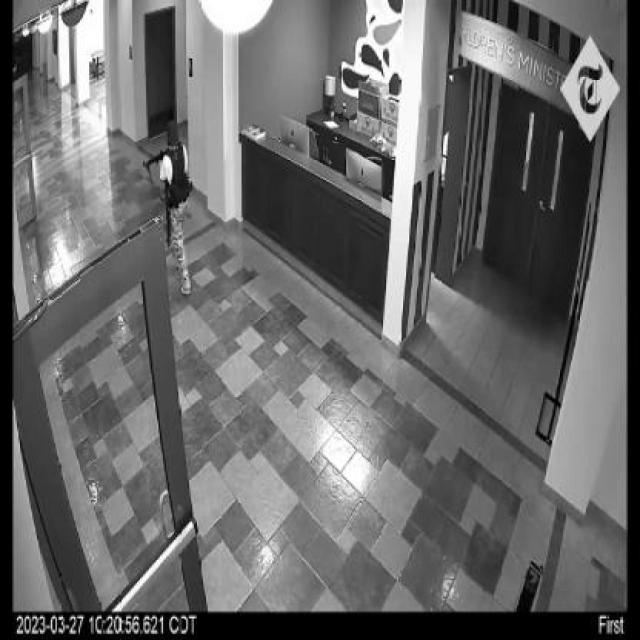weapon: (142, 148, 168, 172)
